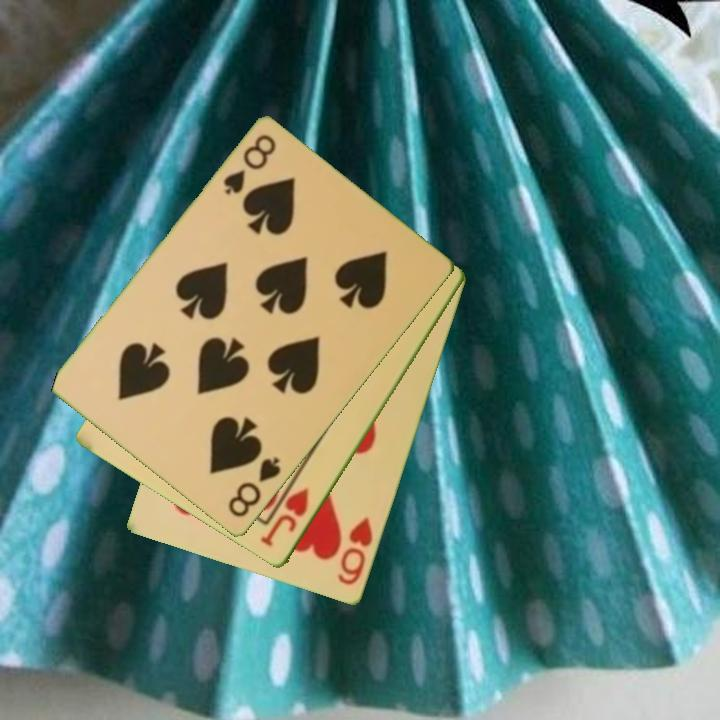6h: (334, 513, 376, 589)
8s: (219, 131, 280, 199), (224, 453, 284, 521)
Jh: (257, 485, 312, 550)
